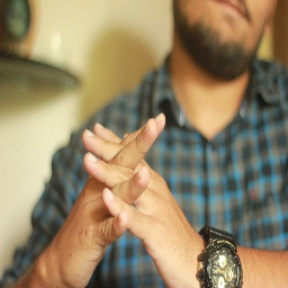W: (70, 107, 189, 278)
